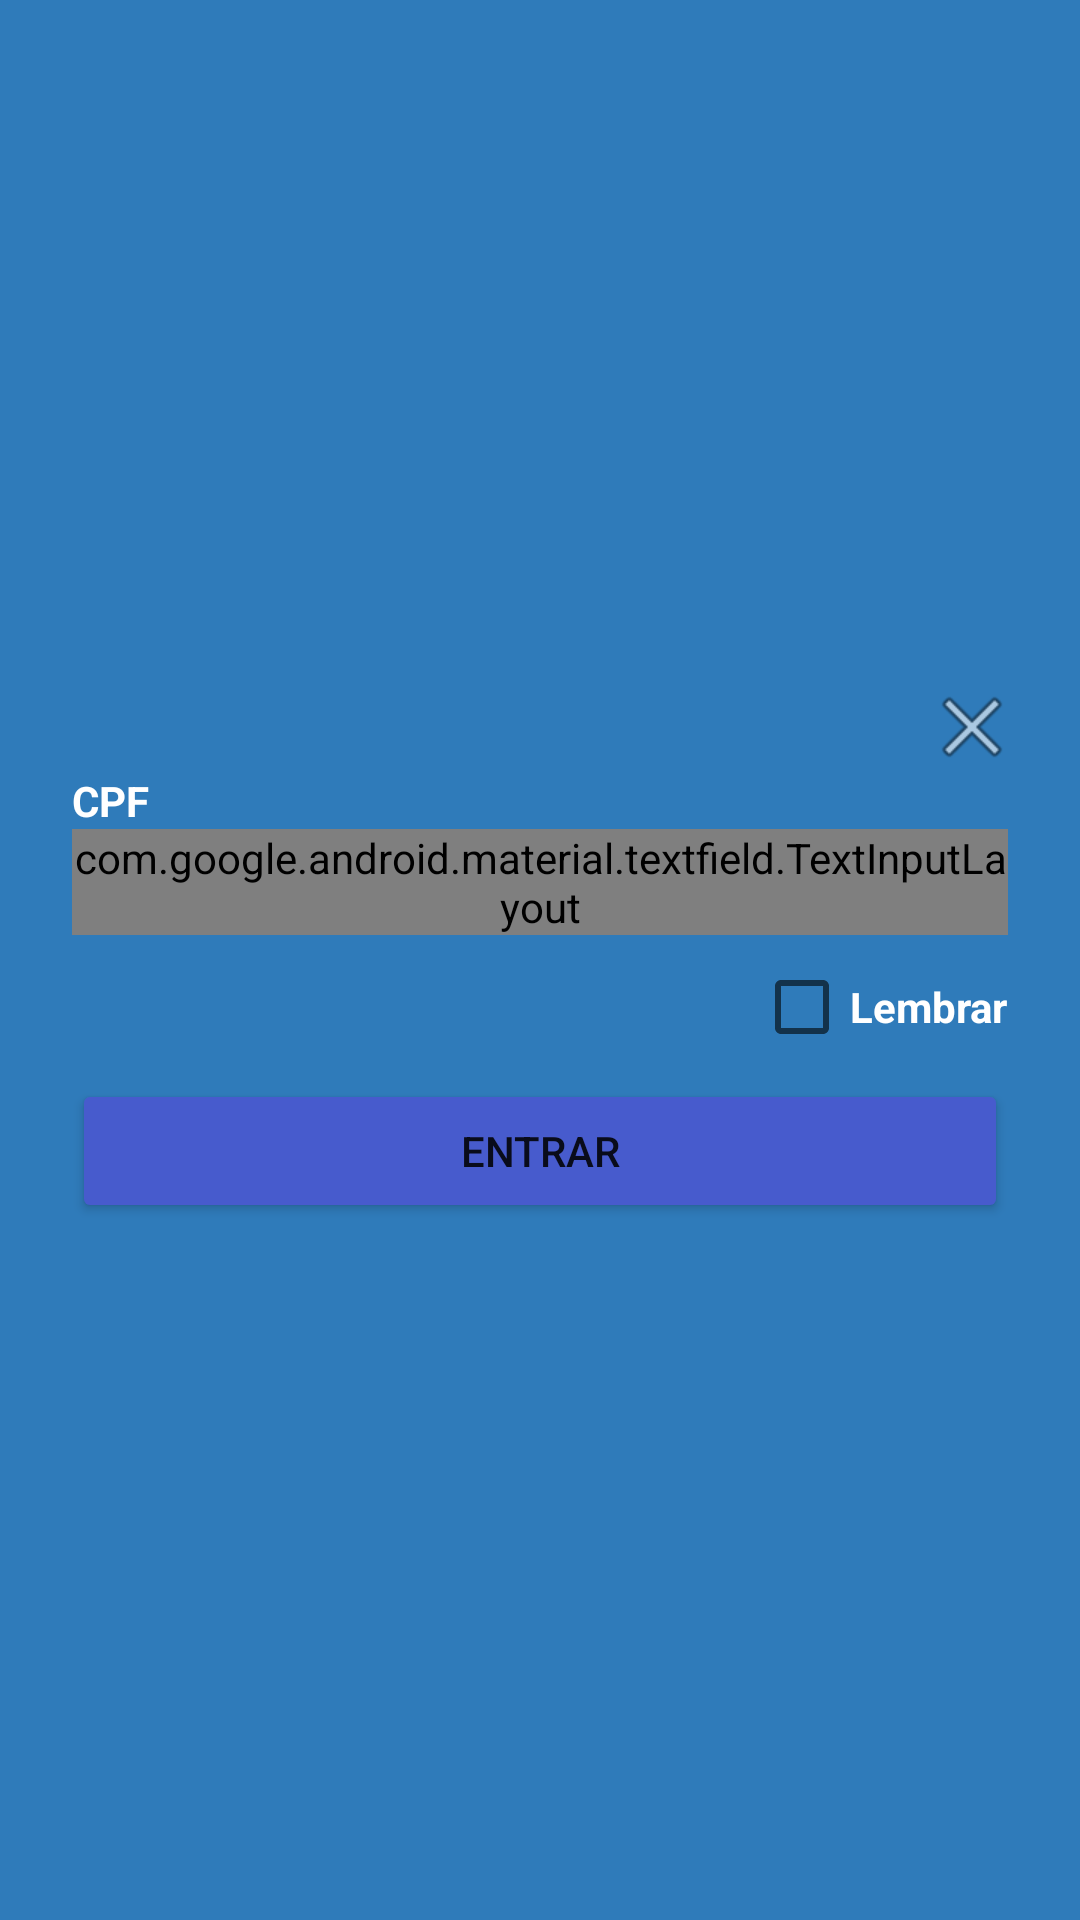

Icons on this 1080 x 1920 Android screen, each with its box as BBox(x1, y1, x2, y2):
close clear cancel: BBox(942, 697, 1002, 757)
